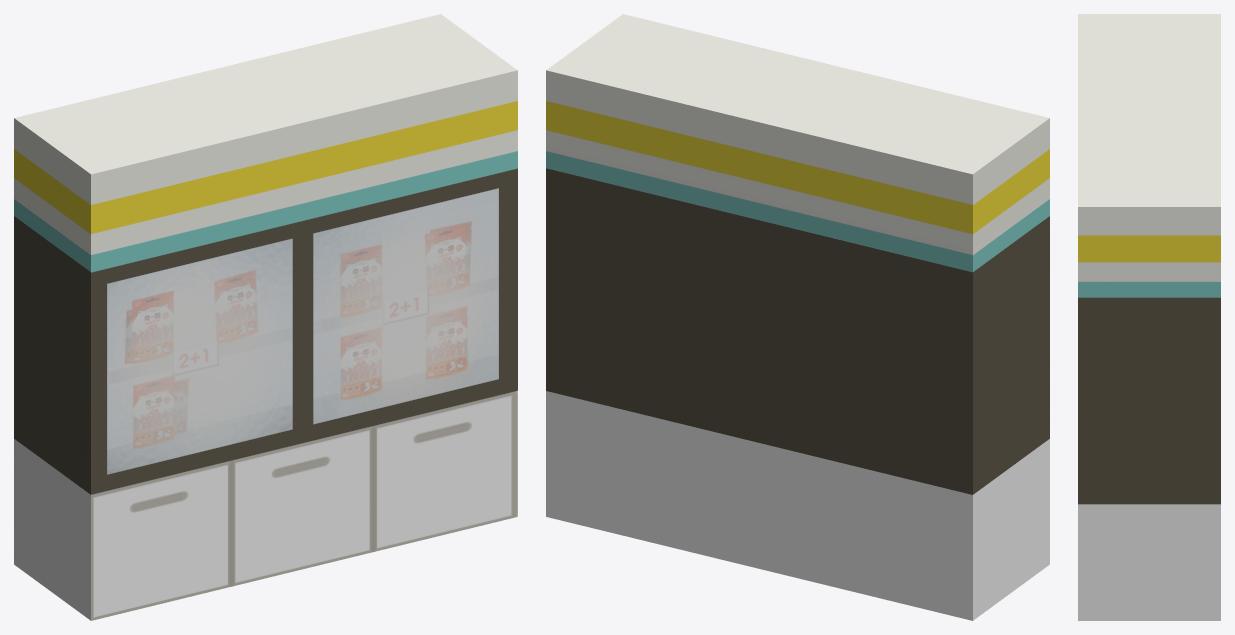
Rendered from Store_Frige_Wall.FBX.
The picture shows the model from 3 angles, left to right: view 1: azimuth 30°, elevation 25°; view 2: azimuth 150°, elevation 25°; view 3: azimuth 270°, elevation 25°; orthographic projection. The views are drawn at different scales.
Visible parts, largest first — view 1: Object073; view 2: Object073; view 3: Object073.
Part boxes in pixels (x1=…): Object073: x1=14, y1=14, x2=517, y2=620; Object073: x1=546, y1=14, x2=1049, y2=620; Object073: x1=1078, y1=14, x2=1220, y2=620.
Size of the model in its own units: 66.93 by 20.92 by 66.93.
